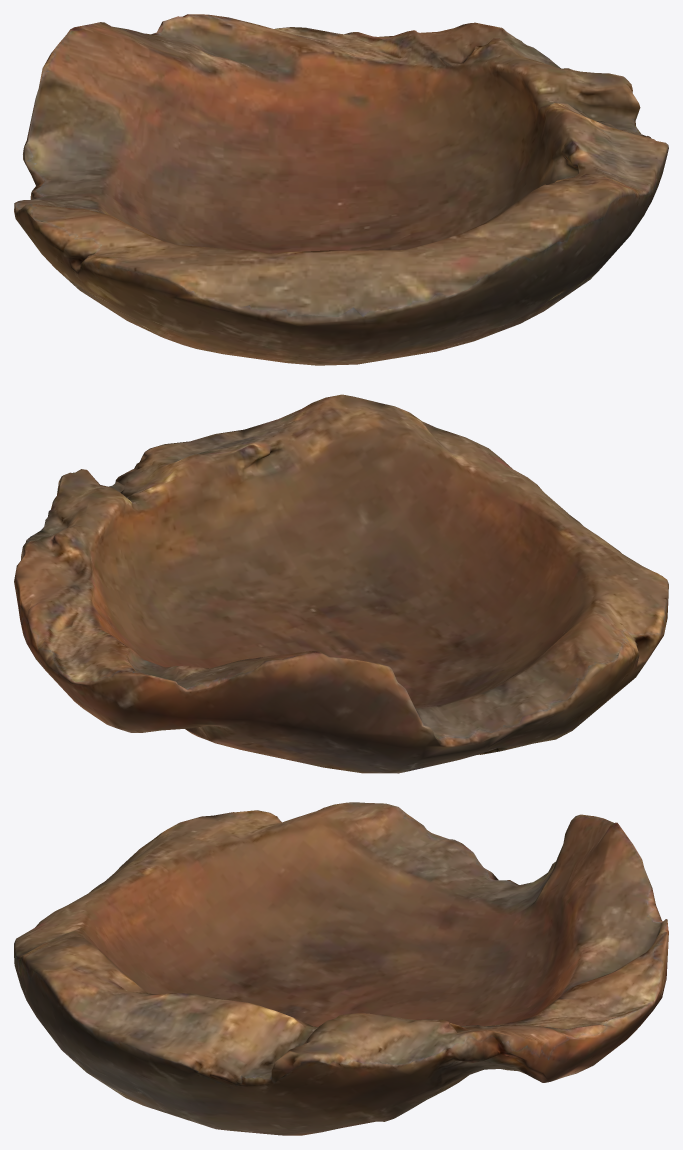
The model's file is wooden_bowl_01.glb.
The picture shows the model from 3 angles, top to bottom: view 1: azimuth 30°, elevation 25°; view 2: azimuth 150°, elevation 25°; view 3: azimuth 270°, elevation 25°; orthographic projection. The views are drawn at different scales.
Visible parts, largest first — view 1: wooden_bowl_01; view 2: wooden_bowl_01; view 3: wooden_bowl_01.
Boxes of the visible parts, left/top/right/bottom form: wooden_bowl_01: left=14, top=14, right=668, bottom=365; wooden_bowl_01: left=14, top=394, right=668, bottom=773; wooden_bowl_01: left=14, top=802, right=668, bottom=1135.
Bounding box in the file's own units: 0.313 × 0.0935 × 0.3088.
Materials: 1 (1 with a texture image).
